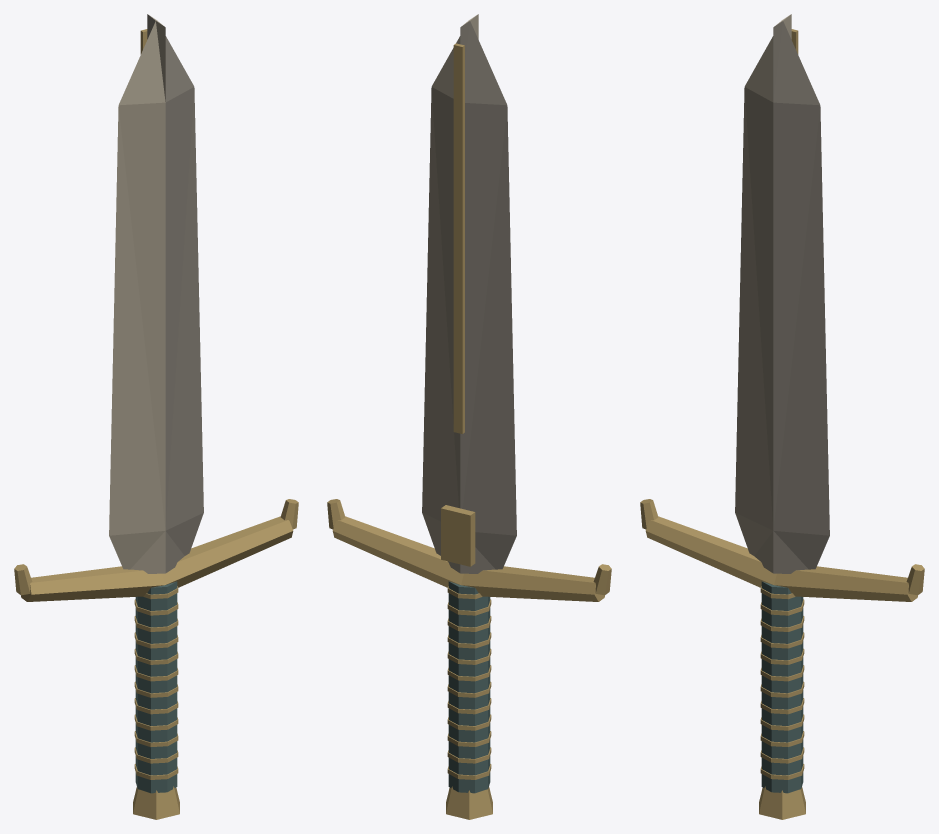
Rendered from Equip_GreatswordRoyal.fbx.
3 renders of one model, left to right at view 1: azimuth 30°, elevation 25°; view 2: azimuth 150°, elevation 25°; view 3: azimuth 330°, elevation 25°, orthographic.
Visible parts, largest first — view 1: Equip_GreatswordRoyal; view 2: Equip_GreatswordRoyal; view 3: Equip_GreatswordRoyal.
Part boxes in pixels (<box>): Equip_GreatswordRoyal: <box>14,14,298,819</box>; Equip_GreatswordRoyal: <box>327,14,611,819</box>; Equip_GreatswordRoyal: <box>640,14,924,819</box>.
Size of the model in its own units: 0.8596 by 2.3 by 0.1349.
